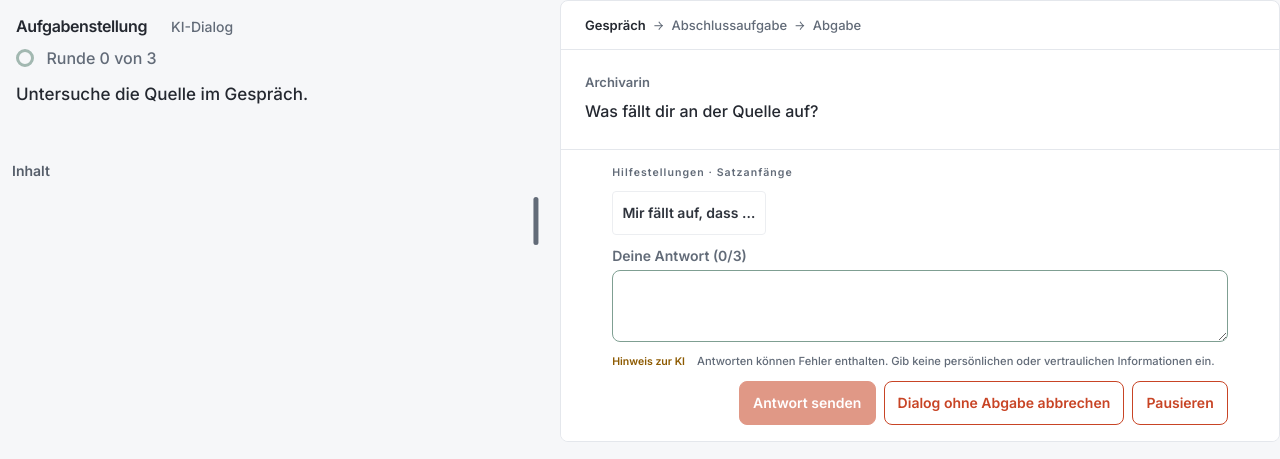
Test: LearningDialogWorkspace › keeps configured sentence starters beside the composer
Click the button "Mir fällt auf, dass …": (689, 213) [612,191,766,235]
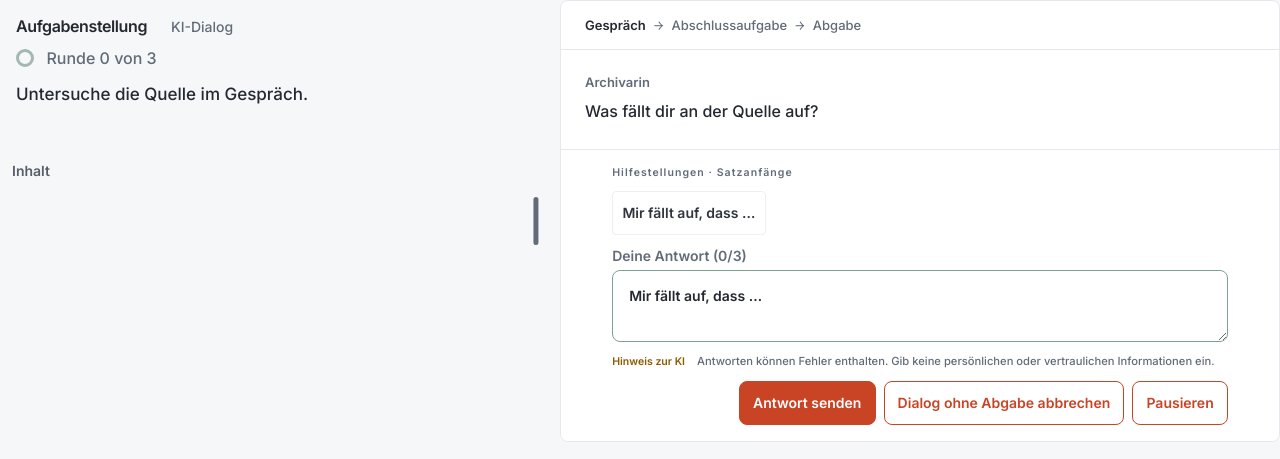
Check: the text box labelled "Deine Antwort (0/3)" holds "Mir fällt auf, dass …", box [612,270,1228,342]
